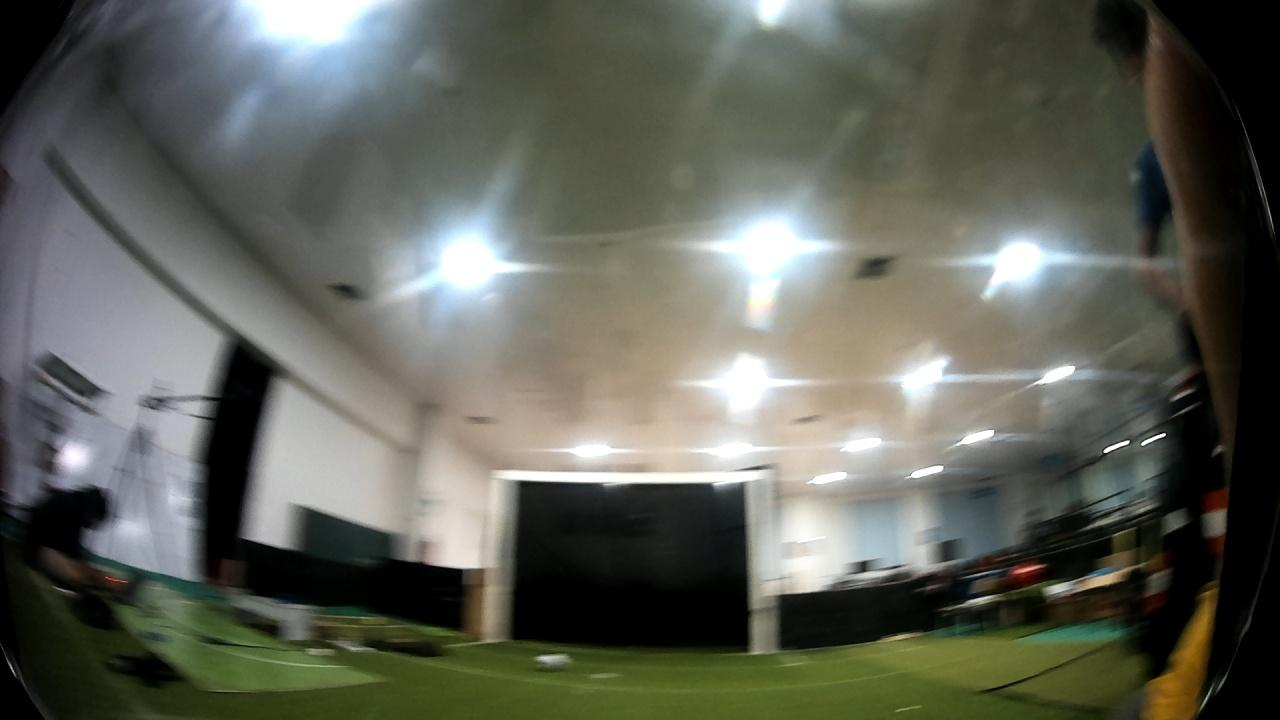ball: (529, 647, 579, 671)
